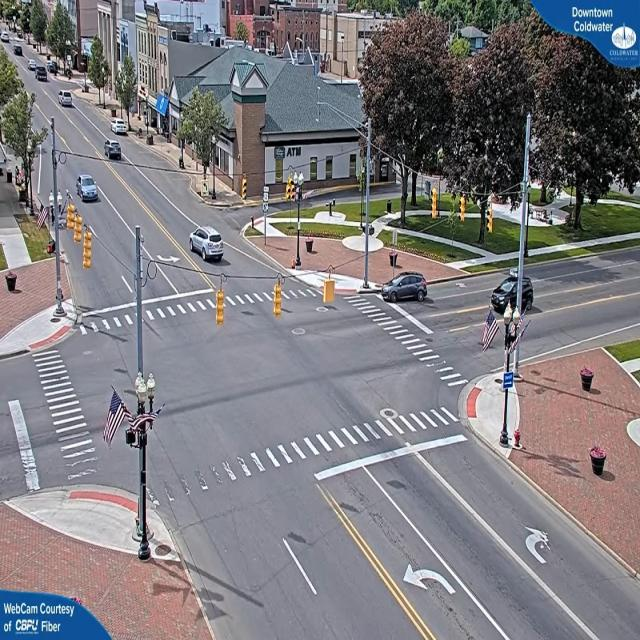car: (493, 274, 536, 310), (383, 273, 431, 303), (188, 227, 225, 261), (75, 176, 98, 203), (107, 142, 125, 162), (112, 120, 130, 136), (60, 91, 74, 108), (38, 68, 50, 82), (34, 66, 48, 78), (14, 46, 25, 58), (28, 60, 39, 71)
